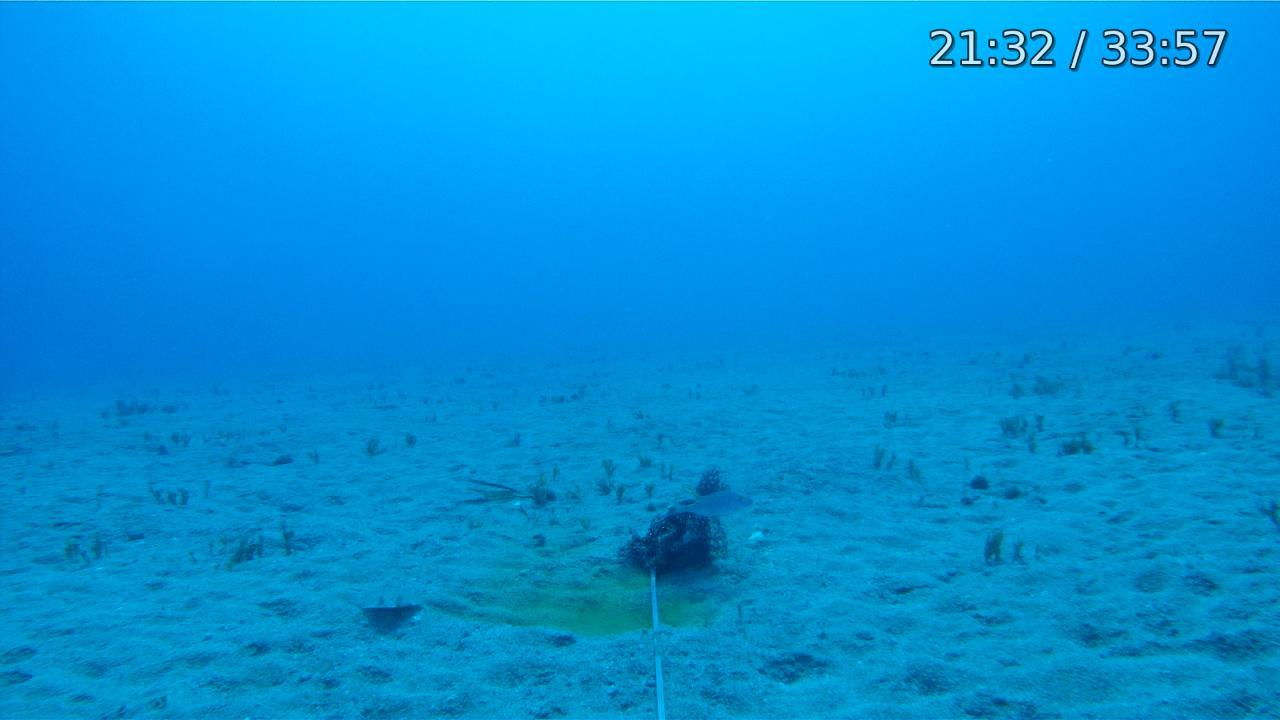bothus: (360, 594, 423, 621)
